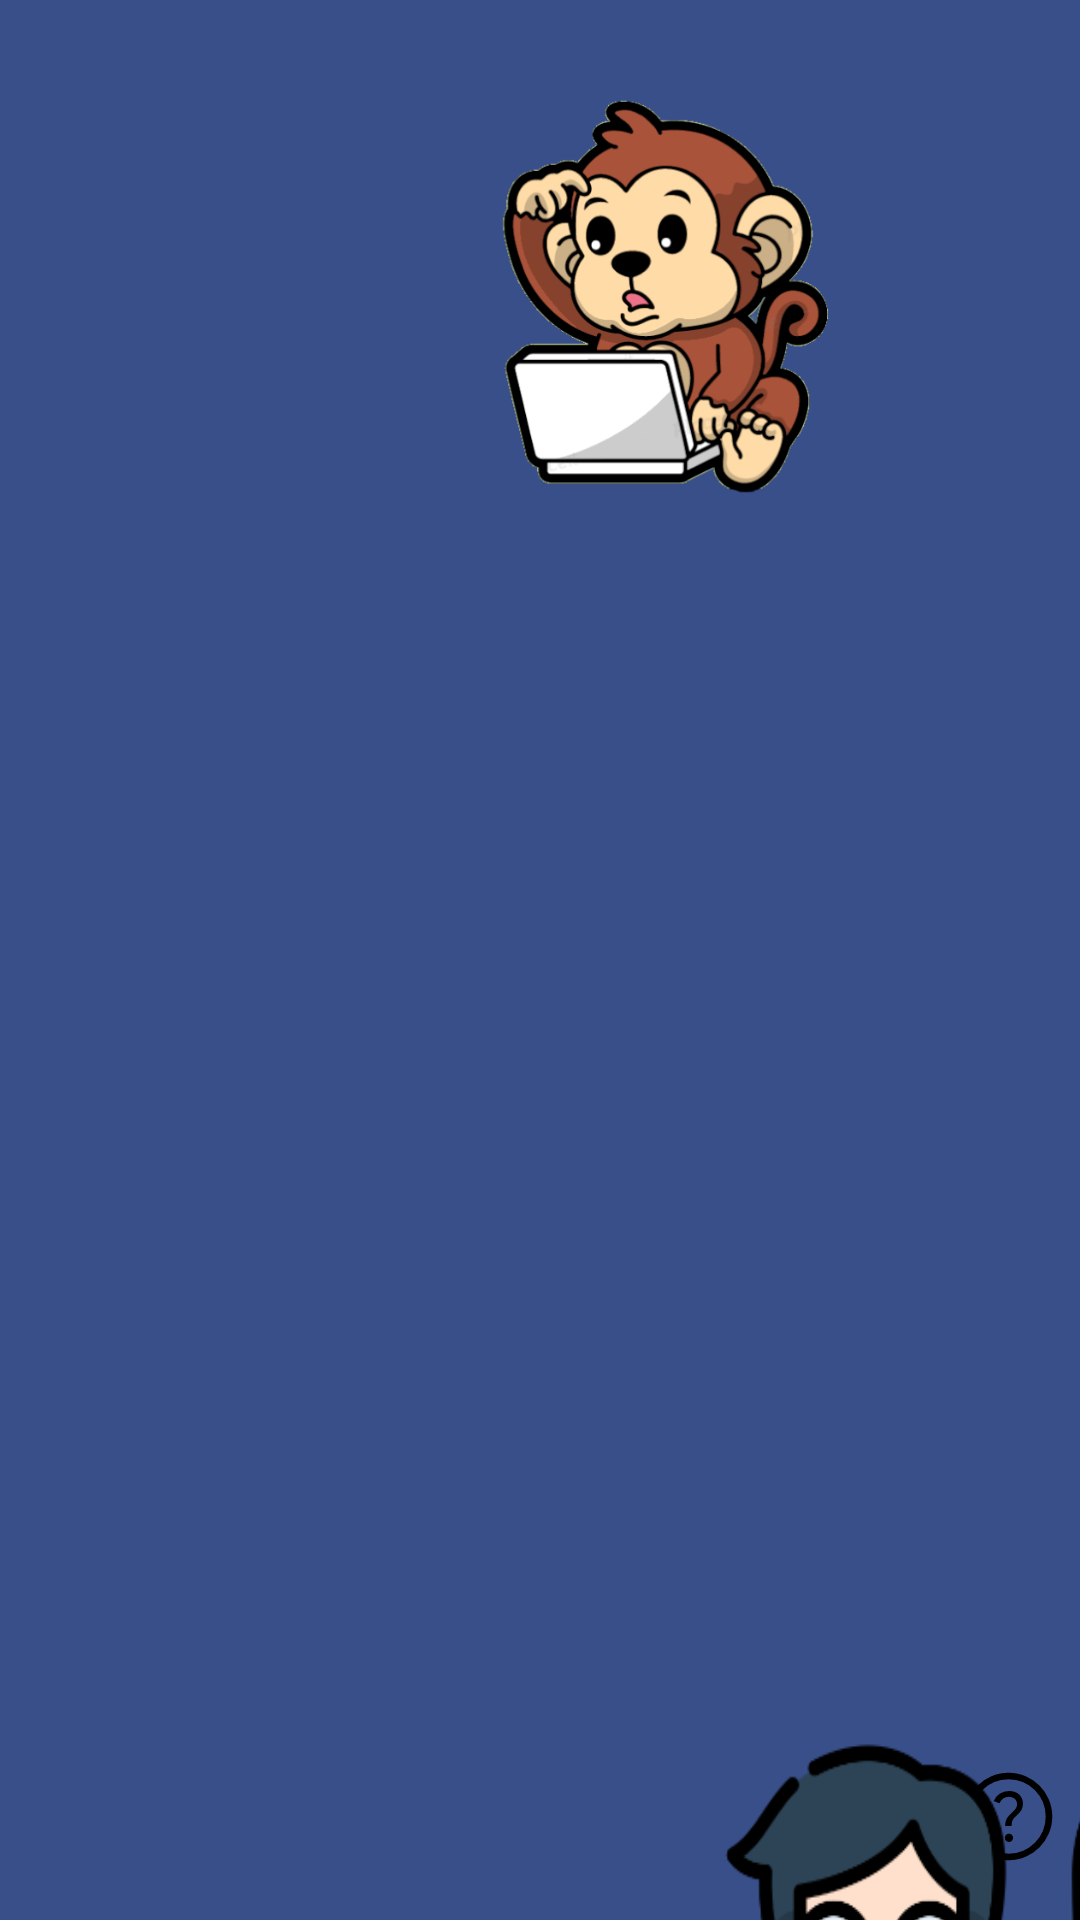

Named icons in this screenshot (1080 × 1920) and their bounding boxes, [x1,y1,x2,y2]:
help: [950,1767,1053,1881]
